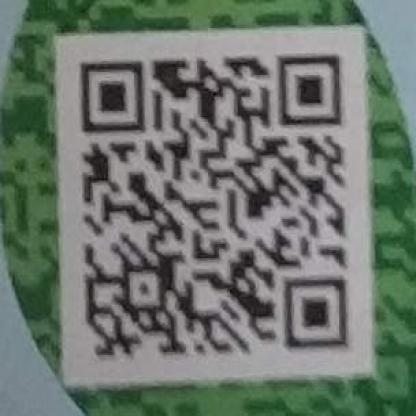qr: (72, 49, 358, 356)
